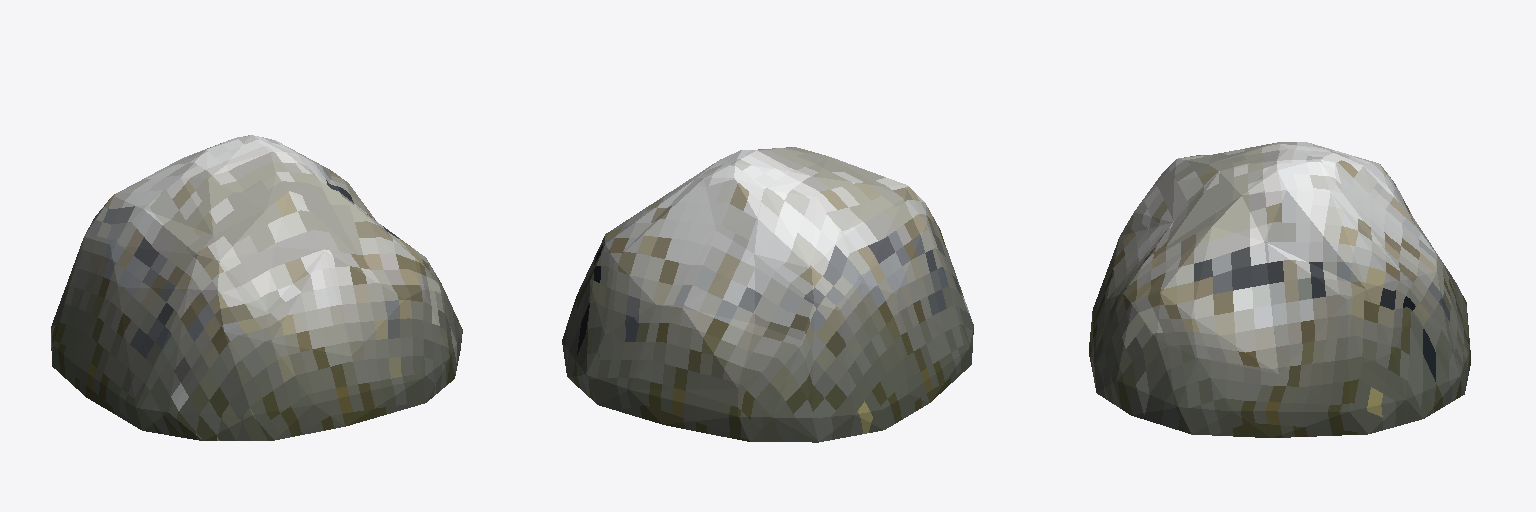
3 views of the same model, side by side, from view 1: azimuth 30°, elevation 25°; view 2: azimuth 150°, elevation 25°; view 3: azimuth 270°, elevation 25° (orthographic).
Parts seen in each view (by area): view 1: Cube; view 2: Cube; view 3: Cube.
Part boxes in pixels (x1,y1,x2,y2): Cube: (51,135,462,440); Cube: (562,147,973,442); Cube: (1089,142,1470,437).
Size of the model in its own units: 0.962 by 0.5733 by 0.9602.
1 materials, 1 textured.